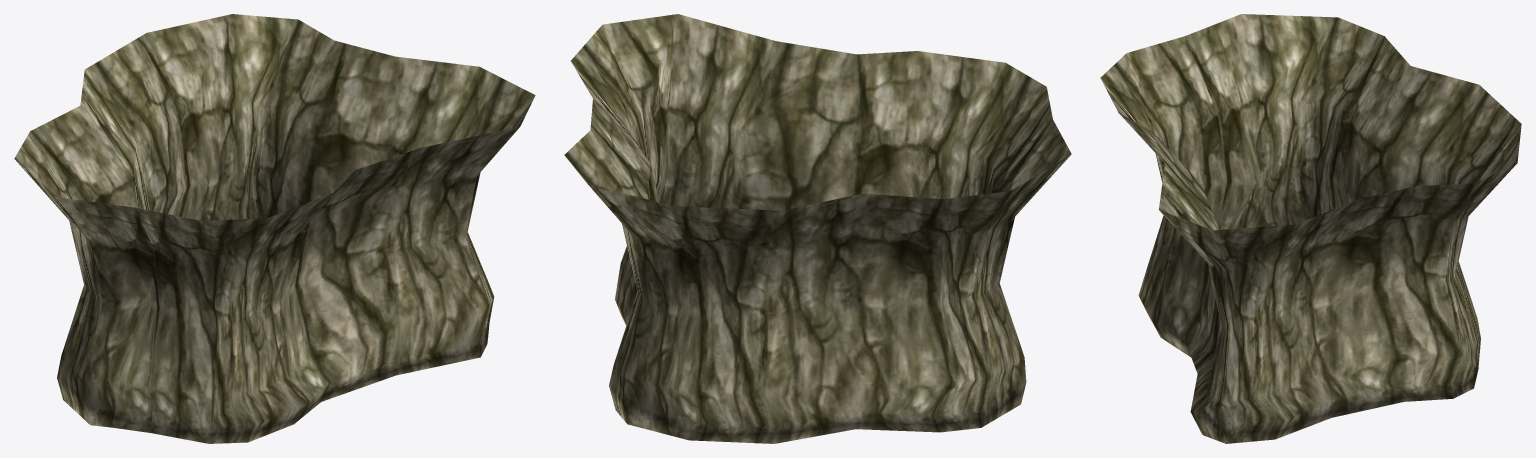
The model's file is CB_NEWPLAYSURFACE_CB_PLAYSURFACE50.fbx.
3 views of the same model, side by side, from view 1: azimuth 30°, elevation 25°; view 2: azimuth 150°, elevation 25°; view 3: azimuth 270°, elevation 25° (orthographic). The views are drawn at different scales.
Visible parts, largest first — view 1: CB_NEWPLAYSURFACE_CB_PLAYSURFACE50; view 2: CB_NEWPLAYSURFACE_CB_PLAYSURFACE50; view 3: CB_NEWPLAYSURFACE_CB_PLAYSURFACE50.
Part boxes in pixels (box(x1,y1,x2,y2)): CB_NEWPLAYSURFACE_CB_PLAYSURFACE50: box(14, 14, 535, 443); CB_NEWPLAYSURFACE_CB_PLAYSURFACE50: box(564, 14, 1071, 443); CB_NEWPLAYSURFACE_CB_PLAYSURFACE50: box(1100, 14, 1521, 443).
Bounding box in the file's own units: 120813 × 60630 × 99409.
2 materials, 2 textured.
